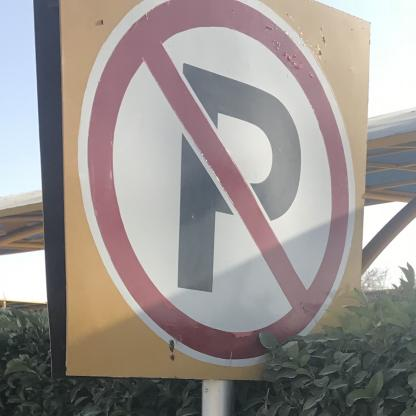No Parking: (56, 2, 369, 378)
